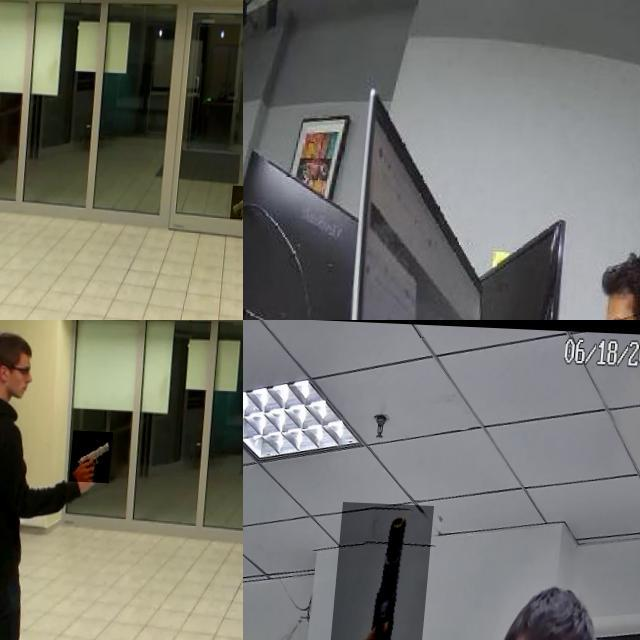gun-knife-thesis - v11 Yolov5 augmented: (329, 499, 437, 640), (76, 428, 120, 482)
